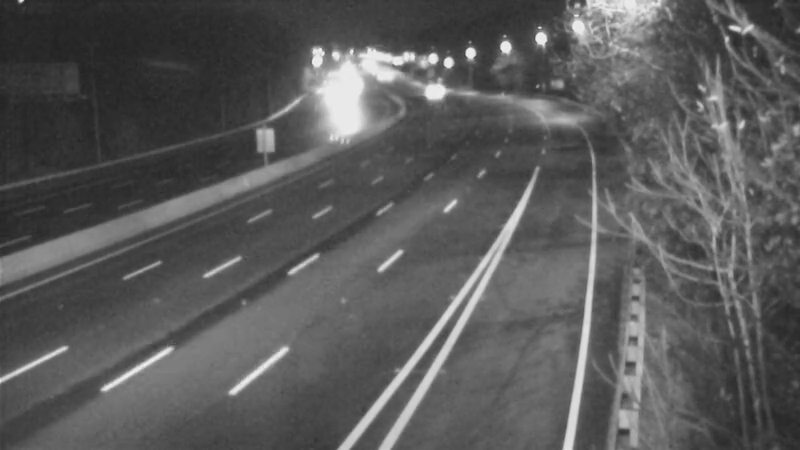vehicle: (410, 67, 460, 117)
